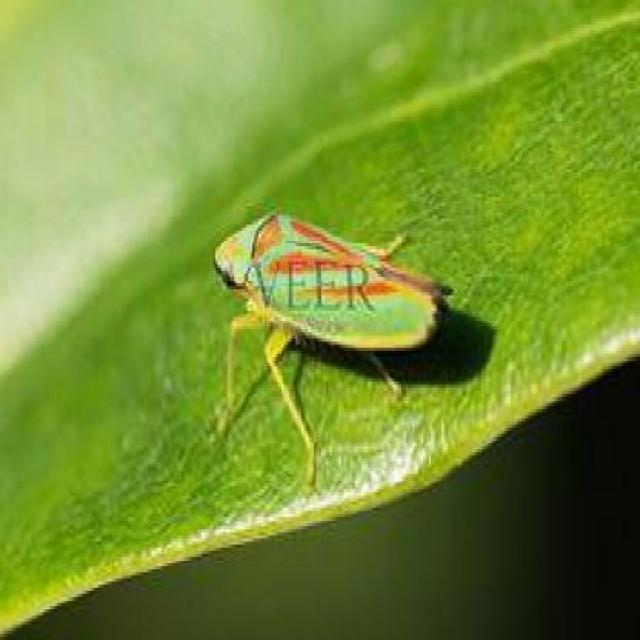green-leafhopper: (215, 206, 450, 451)
